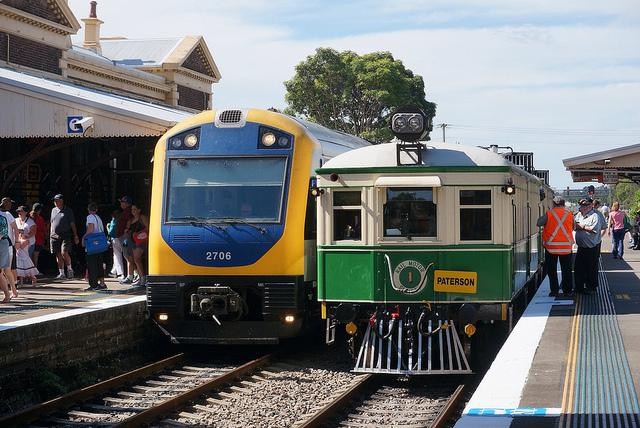Train: (316, 111, 553, 376), (145, 109, 370, 345)
